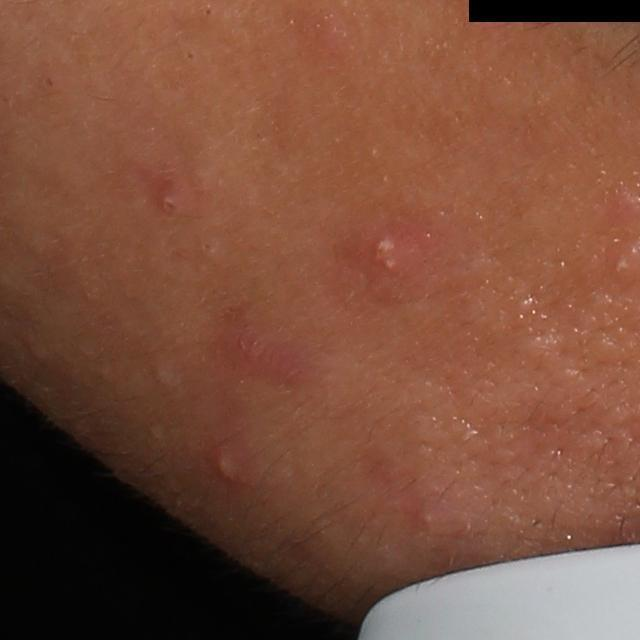comedo: (149, 362, 176, 391), (199, 4, 217, 19), (181, 49, 198, 64), (41, 74, 59, 88)
papule: (228, 326, 278, 372), (142, 173, 187, 219)
pustule: (363, 230, 428, 292), (205, 438, 251, 486)
